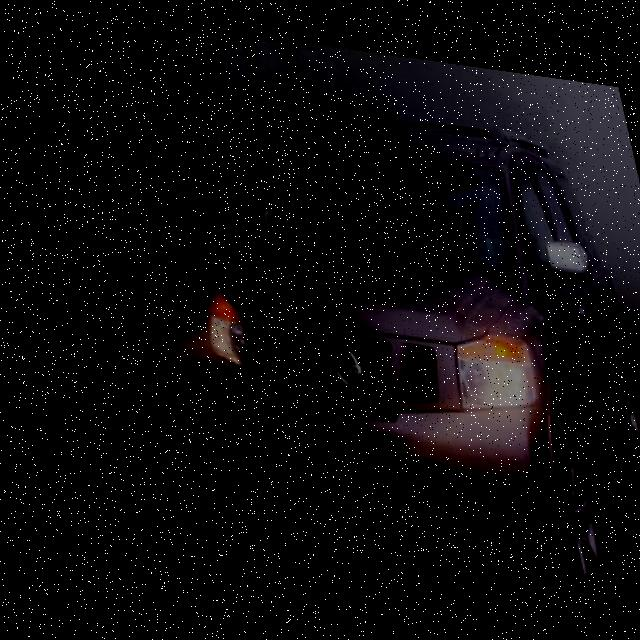license_plate: (317, 464, 388, 535)
